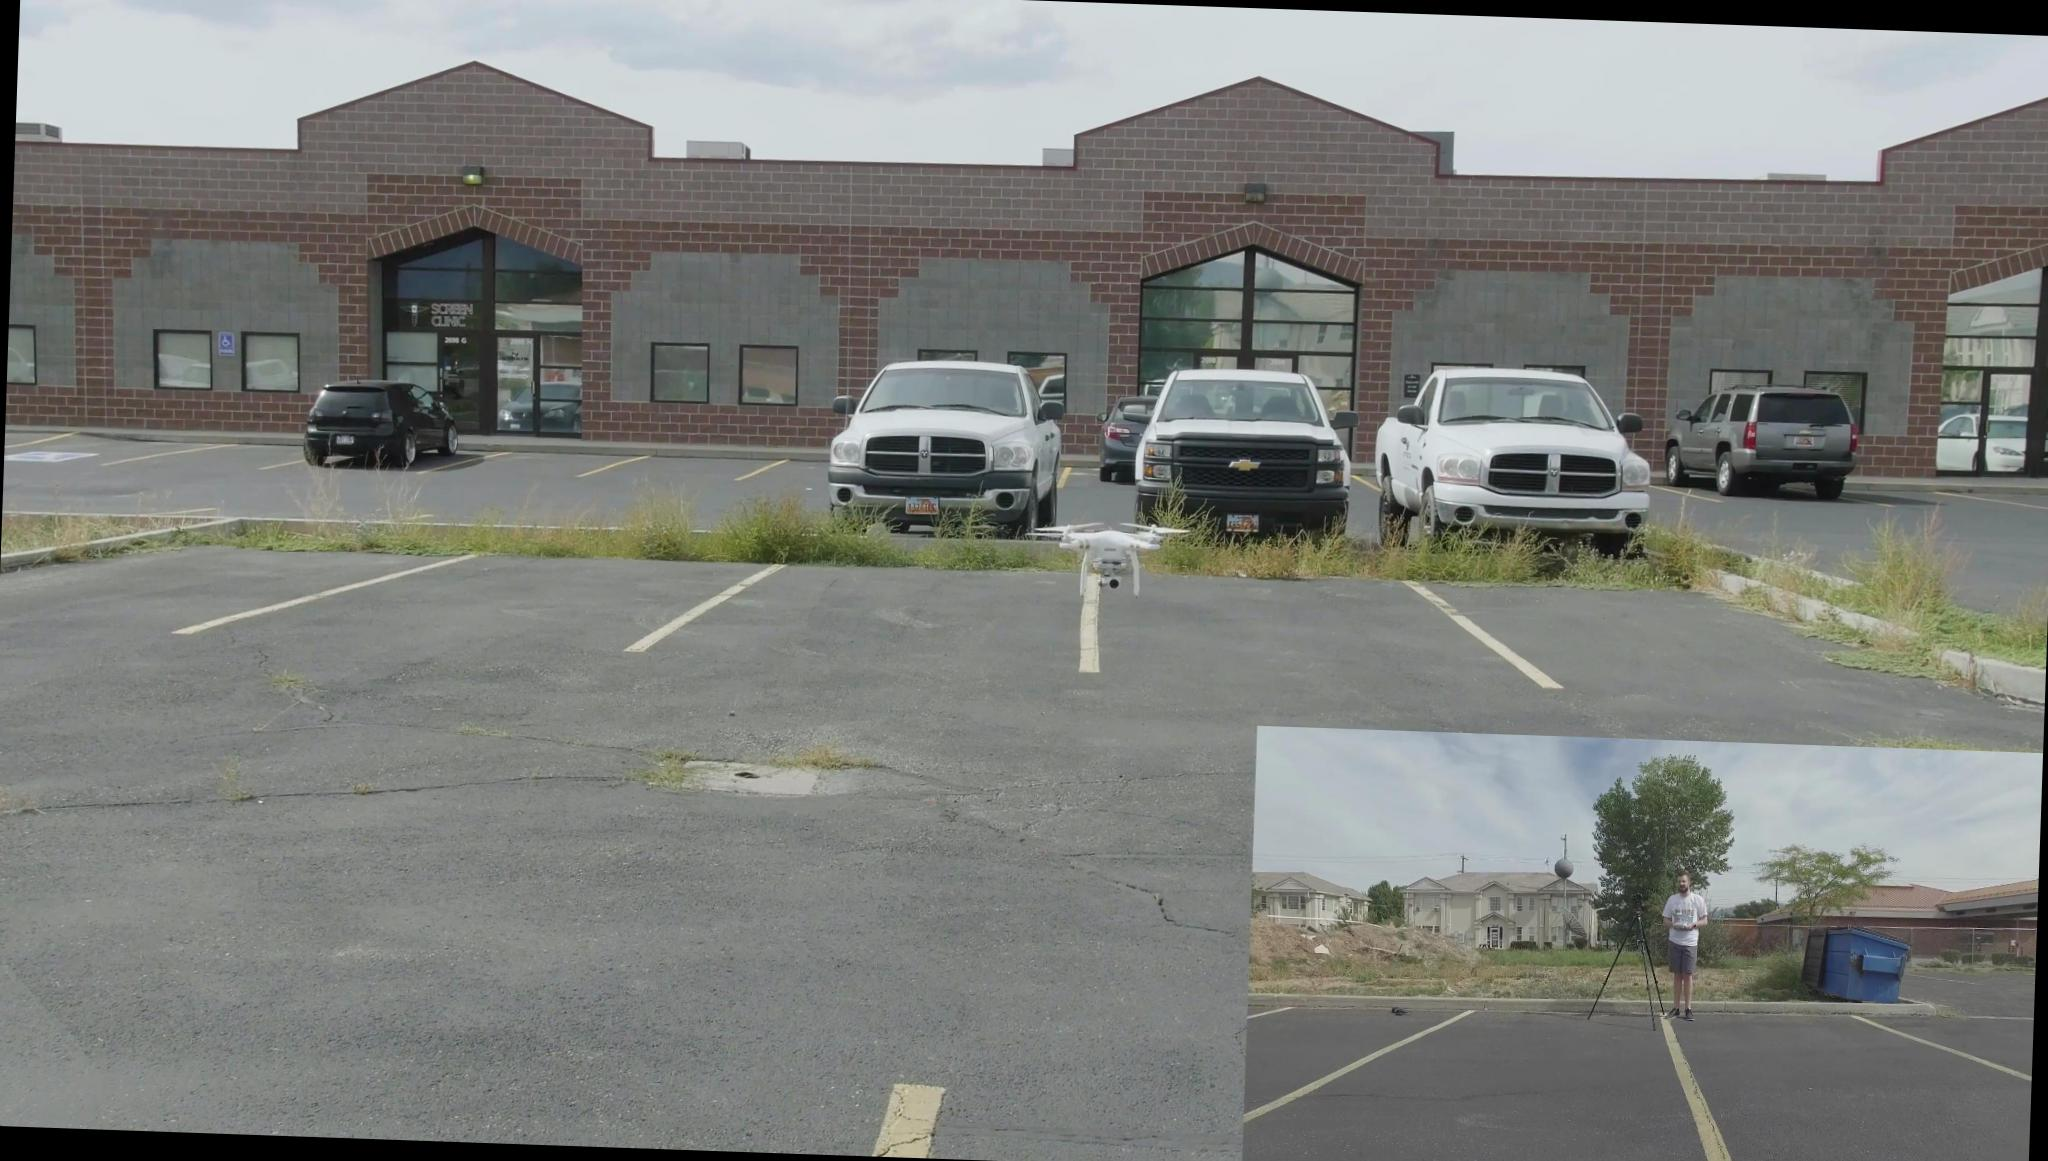drone: (1039, 511, 1180, 592)
